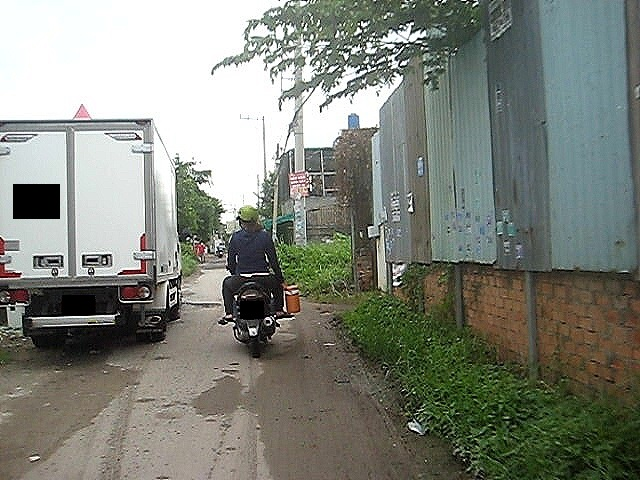hole: (179, 301, 221, 308)
